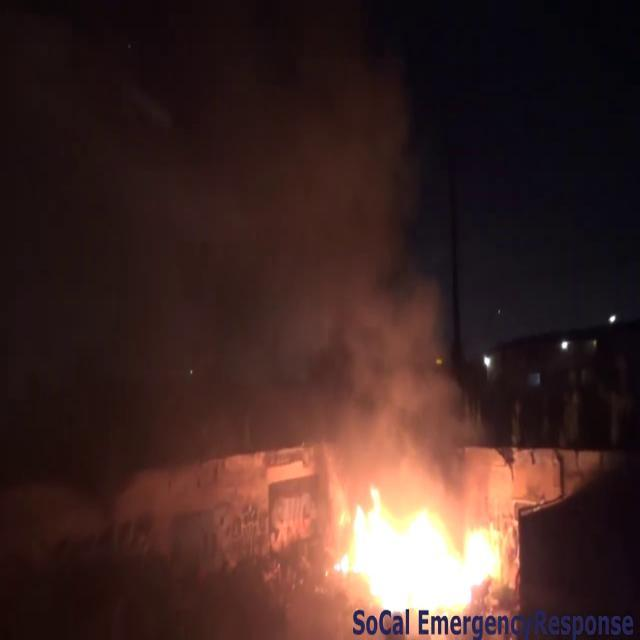Fire: (322, 479, 510, 617)
Smoke: (6, 6, 486, 522)
